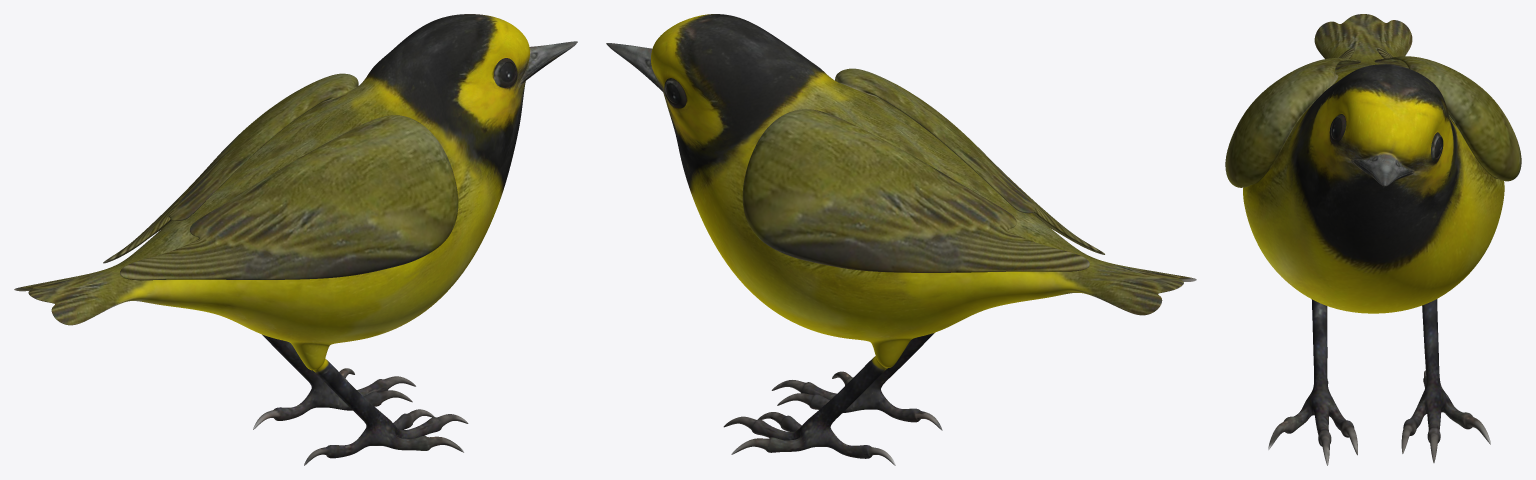
File: burung-kicuit-benuang.glb
3 renders of one model, left to right at view 1: azimuth 30°, elevation 25°; view 2: azimuth 150°, elevation 25°; view 3: azimuth 270°, elevation 25°, orthographic. The views are drawn at different scales.
Visible parts, largest first — view 1: 12214_Bird_v1max_l3; view 2: 12214_Bird_v1max_l3; view 3: 12214_Bird_v1max_l3.
Part boxes in pixels (x1,y1,x2,y2): 12214_Bird_v1max_l3: (14,14,577,465); 12214_Bird_v1max_l3: (606,14,1196,465); 12214_Bird_v1max_l3: (1225,14,1521,465).
Size of the model in its own units: 8.69 by 5.64 by 3.75.
1 material, 1 textured.
